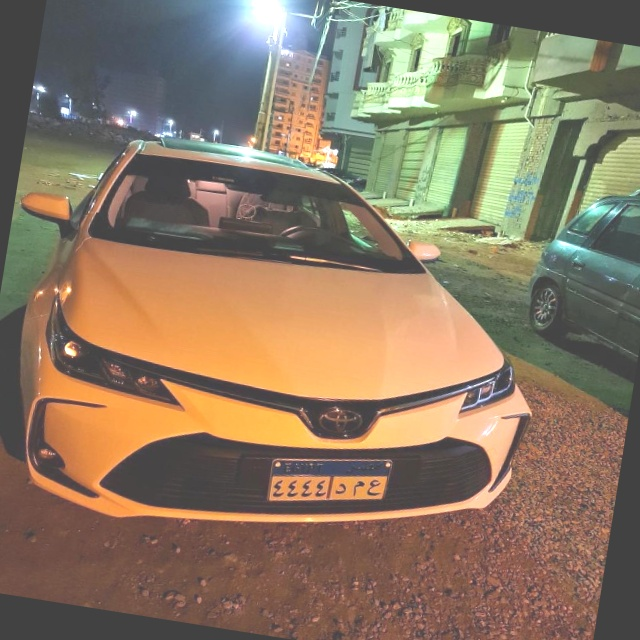License Plate: (266, 442, 395, 520)
